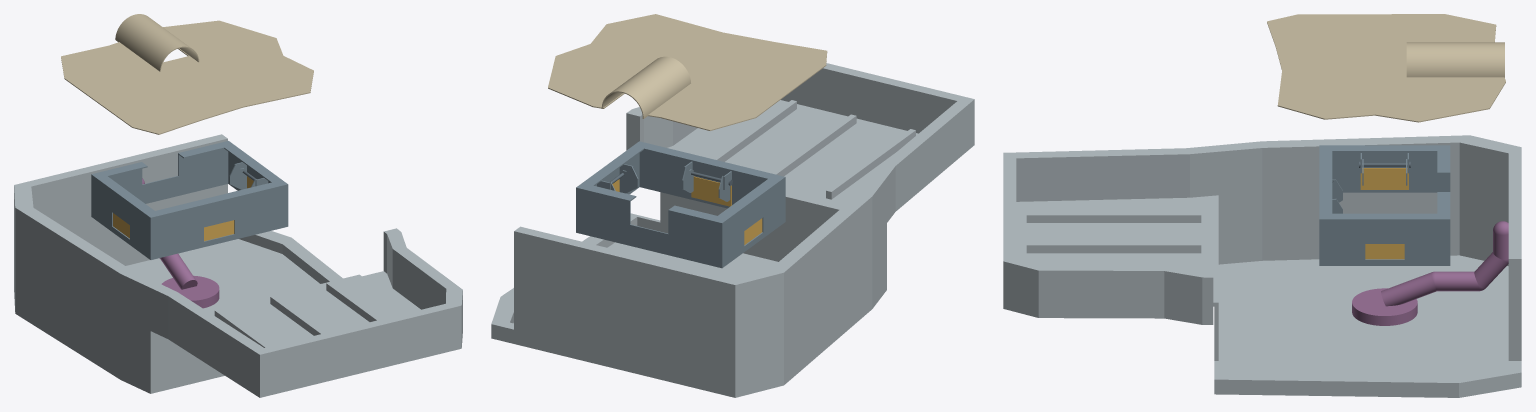
File: baseline_pan_exploded.glb
The picture shows the model from 3 angles, left to right: view 1: azimuth 30°, elevation 25°; view 2: azimuth 150°, elevation 25°; view 3: azimuth 270°, elevation 25°; orthographic projection. The views are drawn at different scales.
Parts seen in each view (by area): view 1: baseline_pan_exploded (×5); view 2: baseline_pan_exploded (×4); view 3: baseline_pan_exploded (×5).
Boxes of the visible parts, x1,y1,x2,y2 form: baseline_pan_exploded (×5): (14,14,462,397); baseline_pan_exploded (×4): (491,14,974,397); baseline_pan_exploded (×5): (1003,14,1521,397).
Bounding box in the file's own units: 0.316 × 0.283 × 0.4747.
